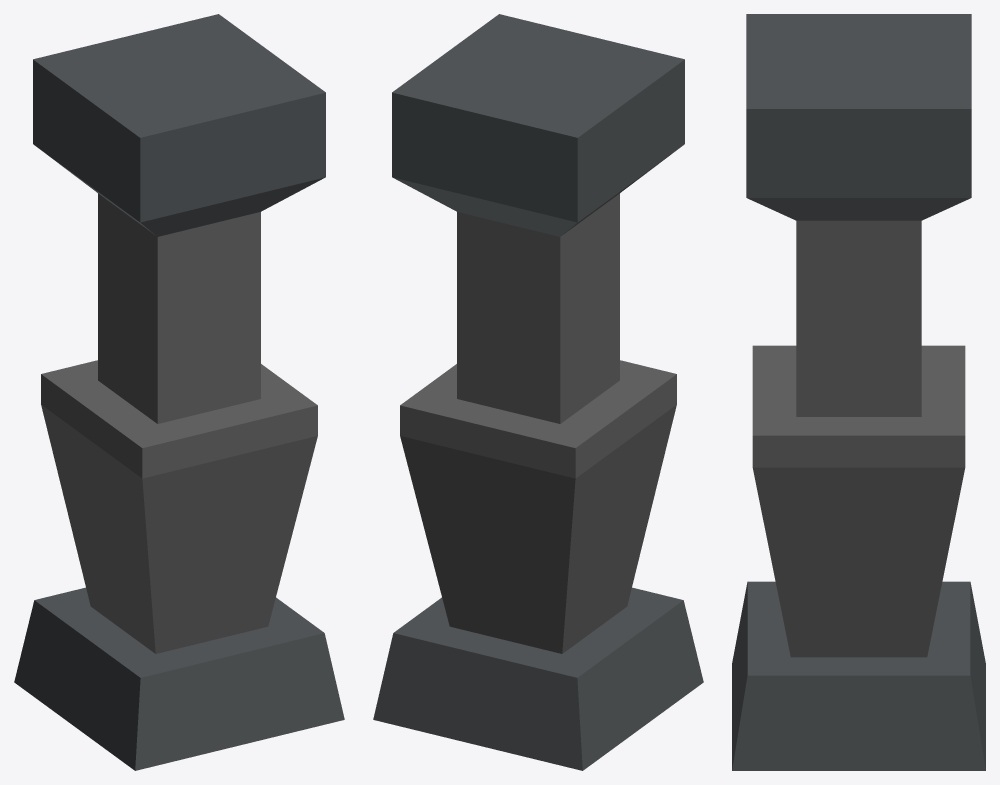
File: StatueSplit.fbx
3 views of the same model, side by side, from view 1: azimuth 30°, elevation 25°; view 2: azimuth 150°, elevation 25°; view 3: azimuth 270°, elevation 25° (orthographic). The views are drawn at different scales.
Parts seen in each view (by area): view 1: Statue1, Statue0, Statue2, Statue3; view 2: Statue2, Statue1, Statue0, Statue3; view 3: Statue1, Statue0, Statue3, Statue2.
Part boxes in pixels (bbox=[...]): Statue1: bbox=[14, 484, 344, 770]; Statue0: bbox=[41, 250, 317, 571]; Statue2: bbox=[33, 14, 325, 348]; Statue3: bbox=[140, 14, 325, 222]; Statue2: bbox=[392, 59, 684, 392]; Statue1: bbox=[373, 513, 703, 770]; Statue0: bbox=[400, 262, 676, 586]; Statue3: bbox=[392, 14, 683, 92]; Statue1: bbox=[732, 515, 985, 770]; Statue0: bbox=[752, 261, 965, 547]; Statue3: bbox=[746, 14, 971, 197]; Statue2: bbox=[747, 14, 971, 272].
Bounding box in the file's own units: 1 × 2.85 × 1.
Materials: 1 (1 with a texture image).
